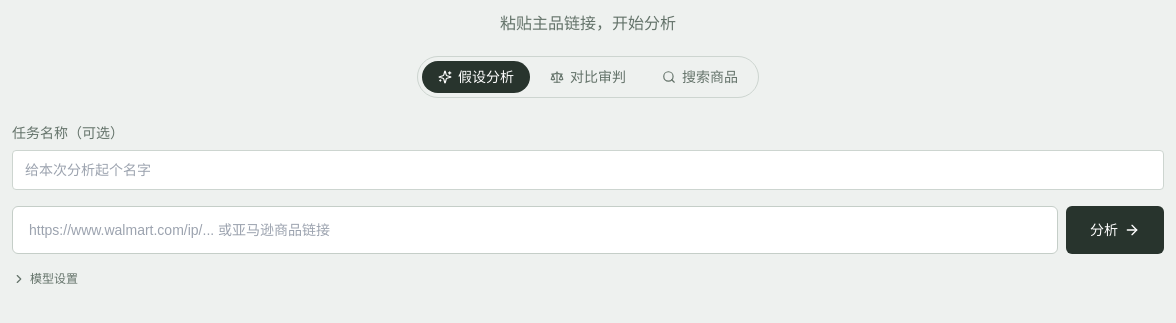
Test case: requires a URL in hypothesis form
The image size is (1176, 323).
Click the button "分析". click: (1115, 230)
box: [1066,206,1164,254]
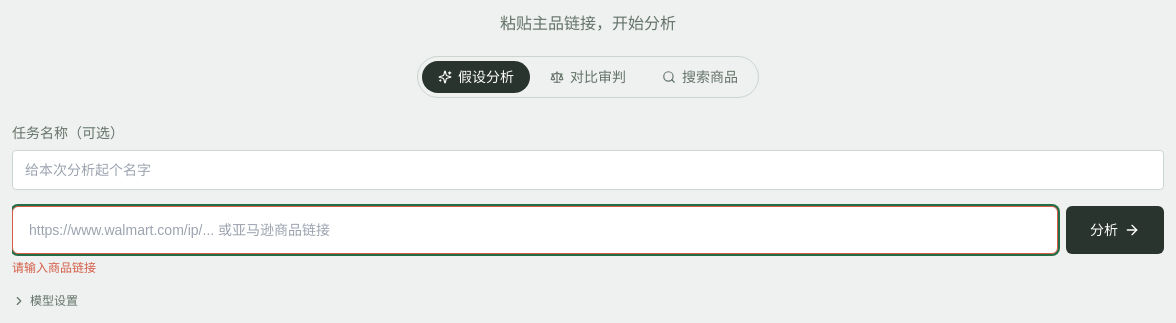
Expected: the text "请输入商品链接" is shown, [12,261,96,275]
